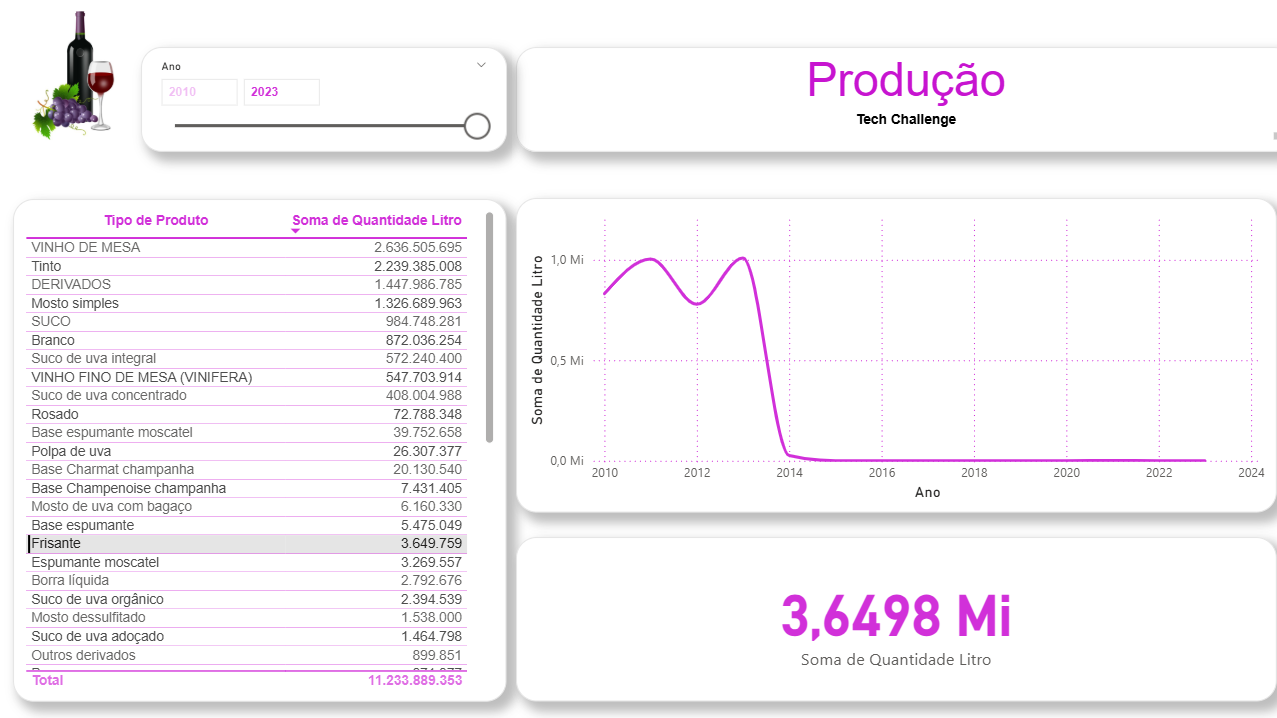

The page's visual inventory and layout, read from the dashboard file:
{"tool":"powerbi","page":{"name":"Produção","canvas":[1280,720],"ordinal":5},"visuals":[{"type":"textbox","title":"Produção","box":[523.3,53.3,756.7,102.2],"z":0},{"type":"image","box":[12.6,6.8,160.5,148.8],"z":1000},{"type":"tableEx","fields":{"Values":["Producao.Tipo de Produto","Sum(Producao.Quantidade Litro)"]},"box":[34.4,201.1,480,488.9],"z":2000},{"type":"lineChart","fields":{"Category":["Producao.Ano"],"Y":["Sum(Producao.Quantidade Litro)"]},"box":[523.3,200,740,305.6],"z":3000},{"type":"card","fields":{"Values":["Sum(Producao.Quantidade Litro)"]},"box":[523.3,530,740,160],"z":4000},{"type":"slicer","fields":{"Values":["Producao.Ano"]},"box":[158.9,53.3,355.6,102.2],"z":5000}]}

Visuals, with their boxes in screenshot pixels (x1, y1, x2, y2), scaled from the page's 1280x720 canvas onto the 1277x718 screenshot:
"Produção" textbox: box=[522, 53, 1276, 155]
image: box=[13, 7, 173, 155]
tableEx - Producao.Tipo de Produto x Sum(Producao.Quantidade Litro): box=[34, 201, 513, 688]
lineChart - Producao.Ano x Sum(Producao.Quantidade Litro): box=[522, 199, 1260, 504]
card - Sum(Producao.Quantidade Litro): box=[522, 529, 1260, 688]
slicer - Producao.Ano: box=[159, 53, 513, 155]
